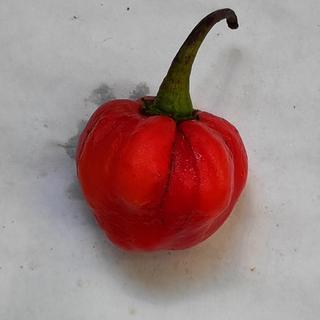Grade-B: (70, 88, 249, 254)
